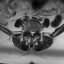CCS_normal: (31, 28, 33, 37)
LFS_severe_stenosis: (35, 28, 37, 34)
LLS_stenosis: (33, 29, 35, 35)
RFS_stenosis: (27, 26, 29, 34)
RLS_stenosis: (29, 27, 31, 35)
